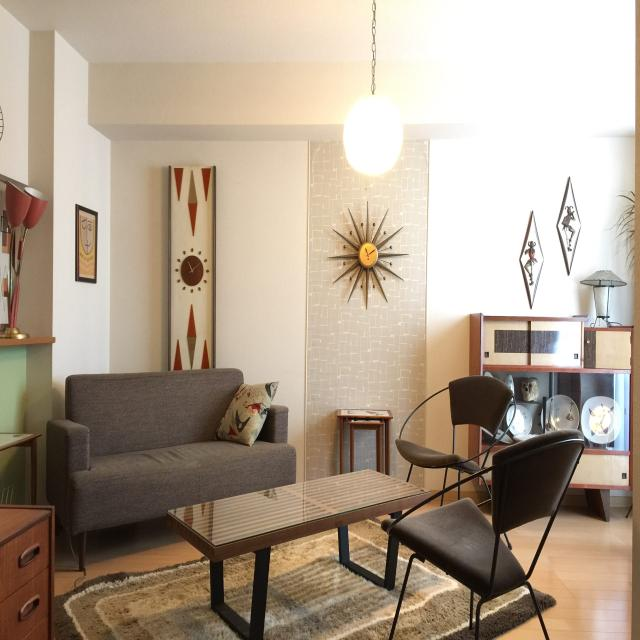vintage chair: (395, 429, 584, 640), (396, 376, 518, 475)
vintage desk: (166, 471, 423, 638)
vintage shelf: (472, 308, 633, 454)
vintage sofa: (46, 365, 300, 488)
